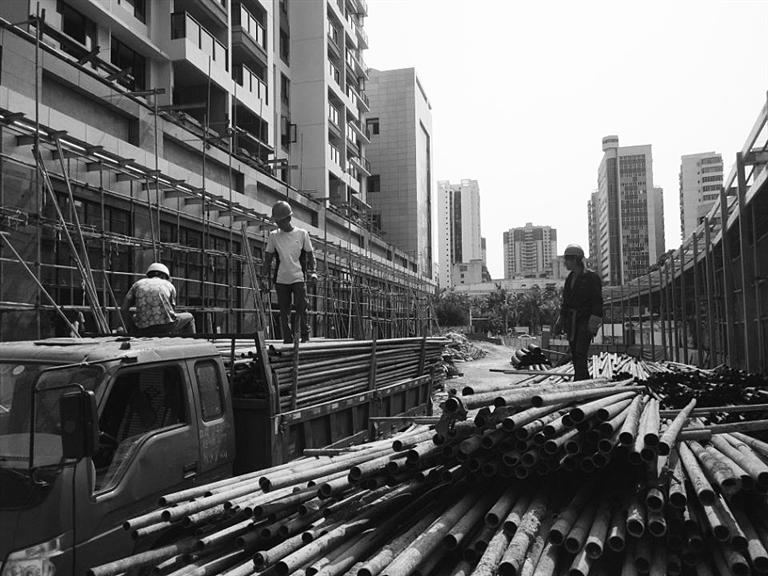helmet: (146, 261, 178, 281), (272, 198, 295, 221), (563, 242, 588, 259)
